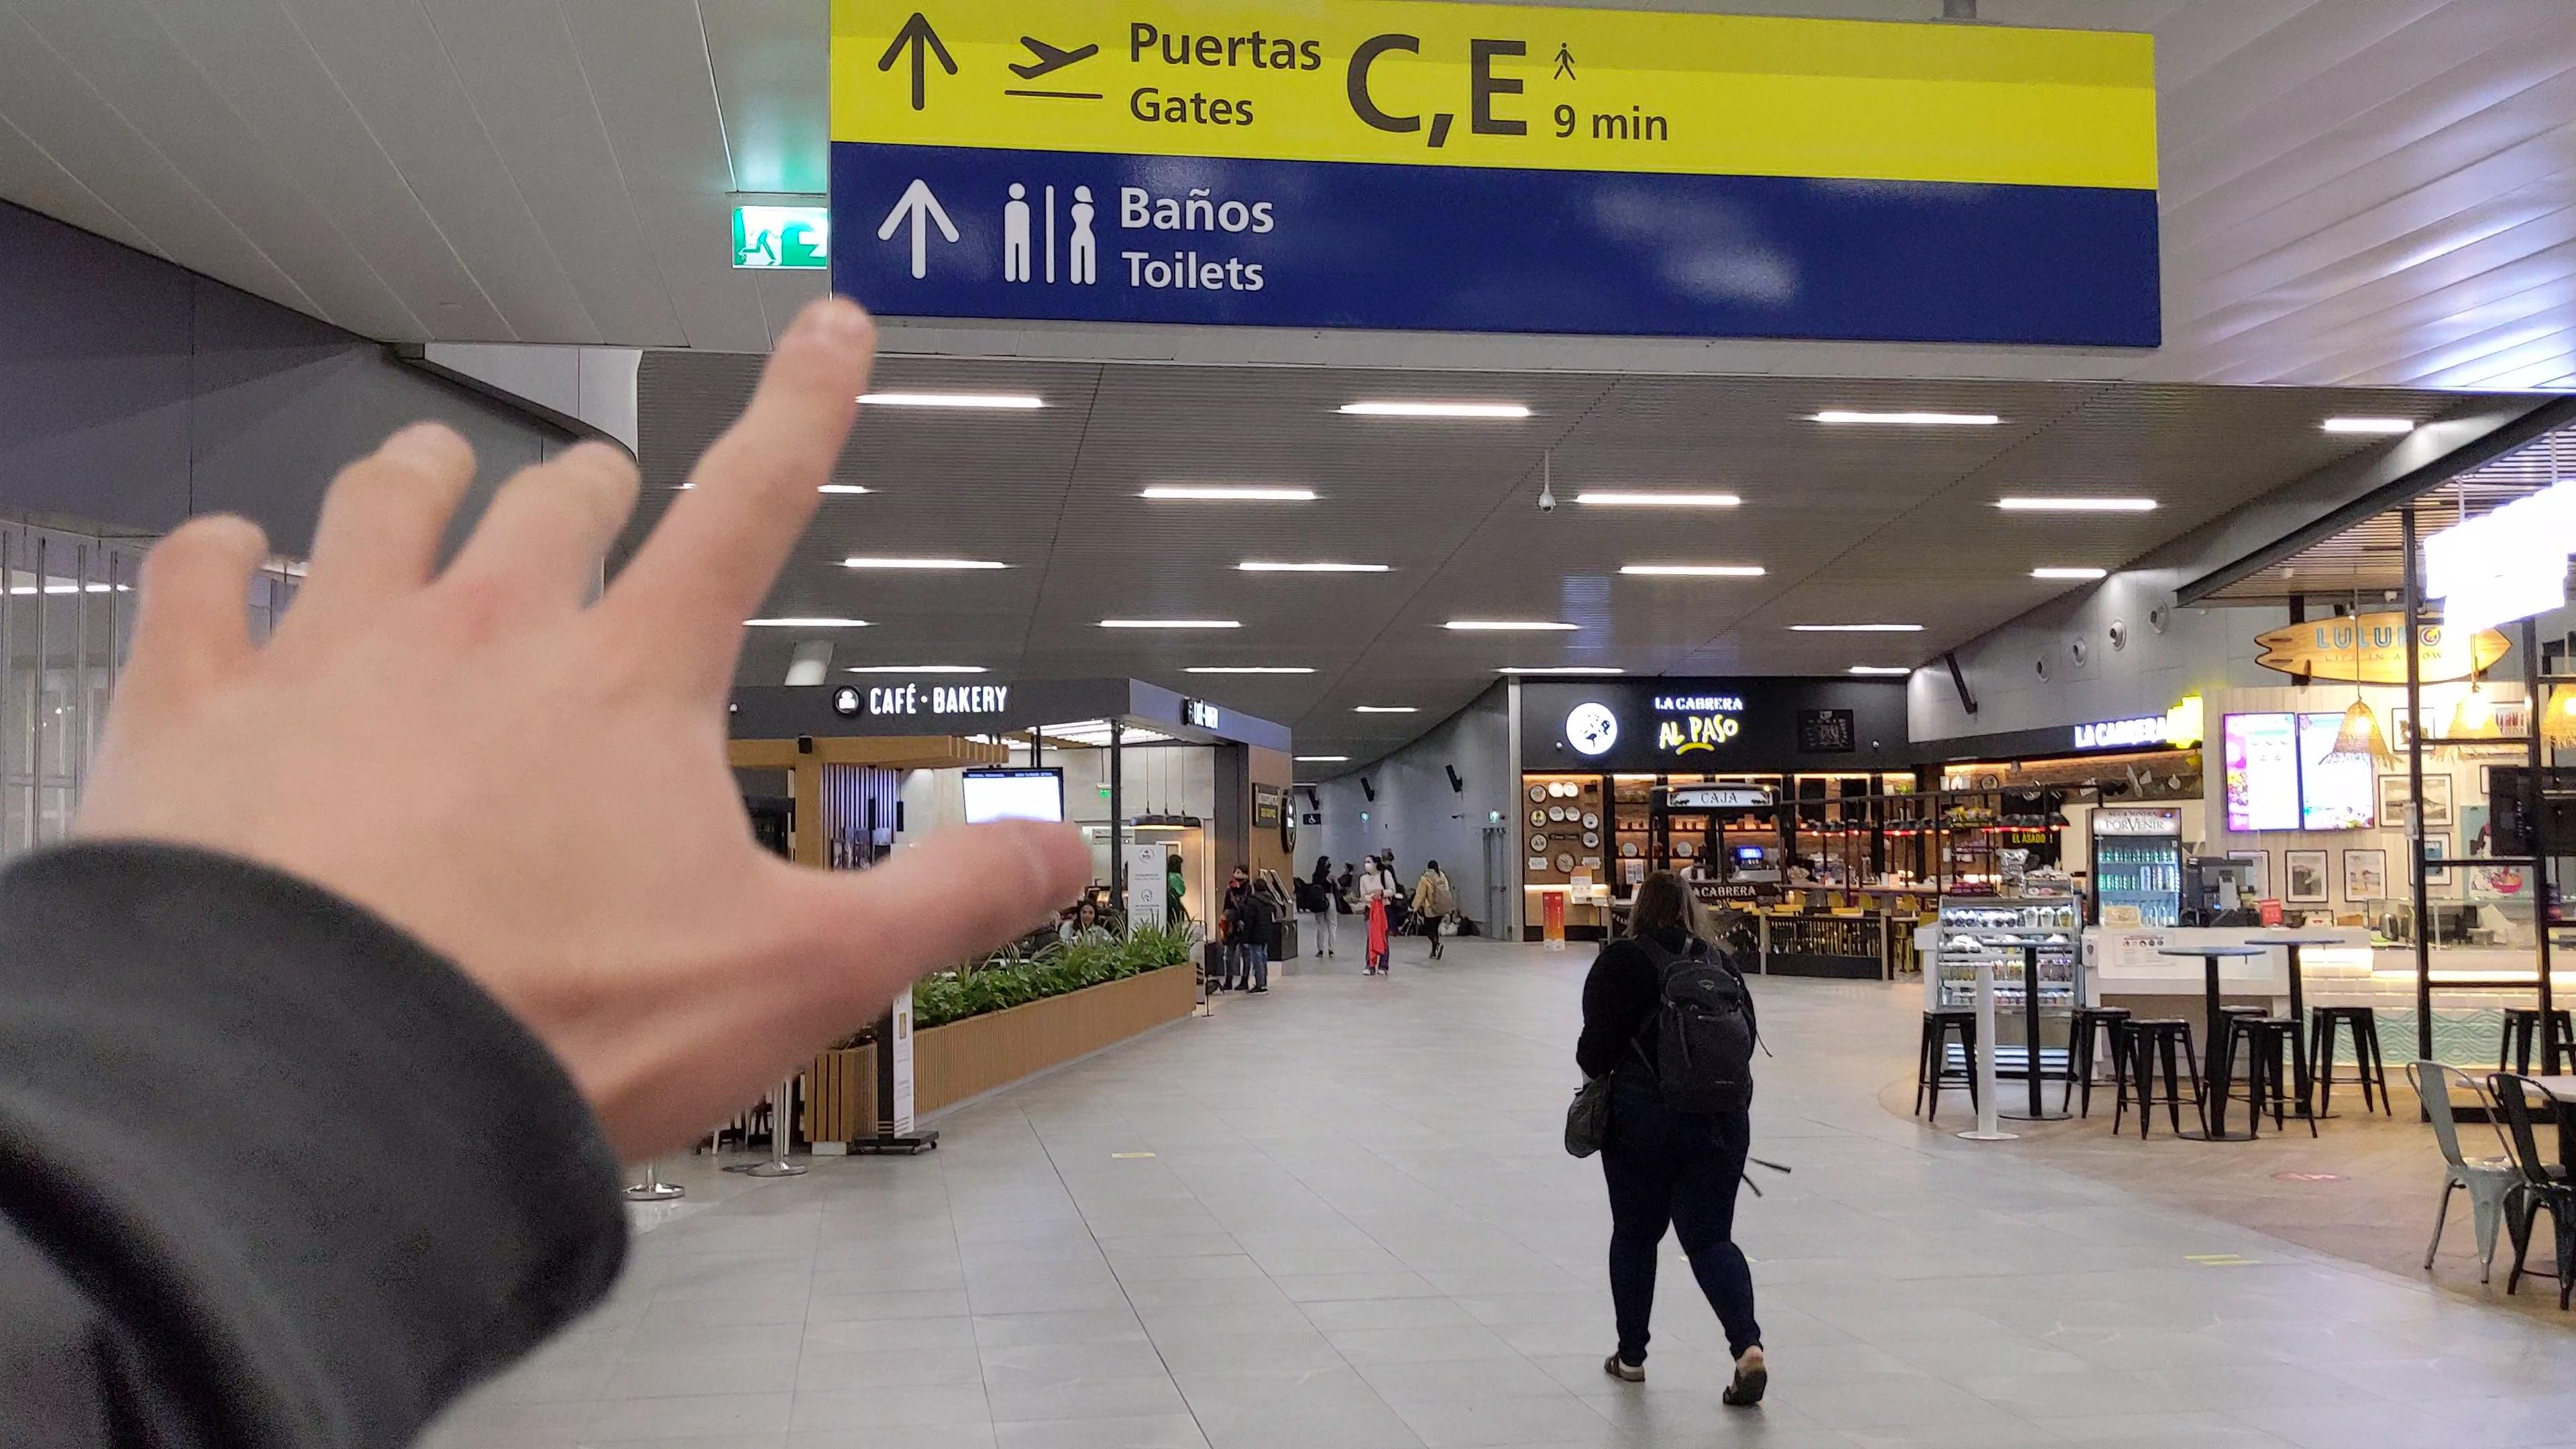airplane symbol: (1012, 25, 1102, 83)
baggage claim: (998, 175, 1100, 288)
emergency exit: (740, 207, 784, 269)
emergency right arrow: (798, 209, 832, 262)
thin up arrow: (878, 177, 961, 285), (876, 9, 961, 113)
